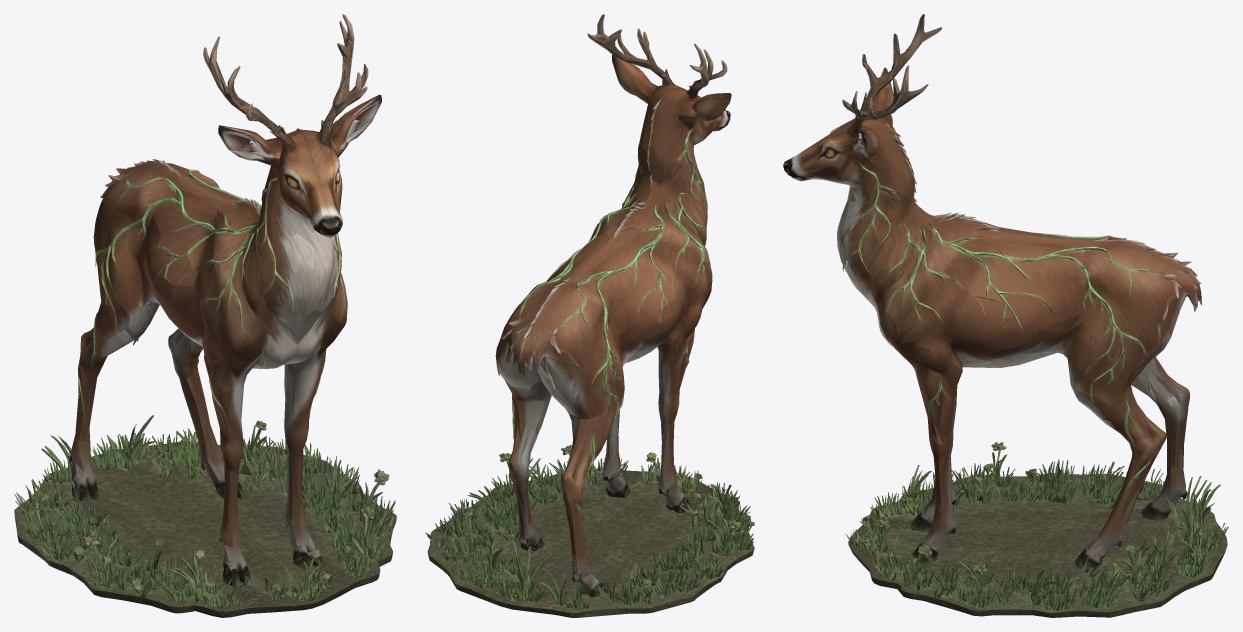
File: meadowhart_a.glb
The picture shows the model from 3 angles, left to right: view 1: azimuth 30°, elevation 25°; view 2: azimuth 150°, elevation 25°; view 3: azimuth 270°, elevation 25°; orthographic projection. The views are drawn at different scales.
Parts seen in each view (by area): view 1: Mesh_0; view 2: Mesh_0; view 3: Mesh_0.
Part boxes in pixels (x1=…): Mesh_0: x1=14, y1=14, x2=396, y2=617; Mesh_0: x1=425, y1=14, x2=754, y2=617; Mesh_0: x1=783, y1=14, x2=1228, y2=617.
Size of the model in its own units: 1.15 by 1.9 by 1.5.
Materials: 1 (1 with a texture image).
